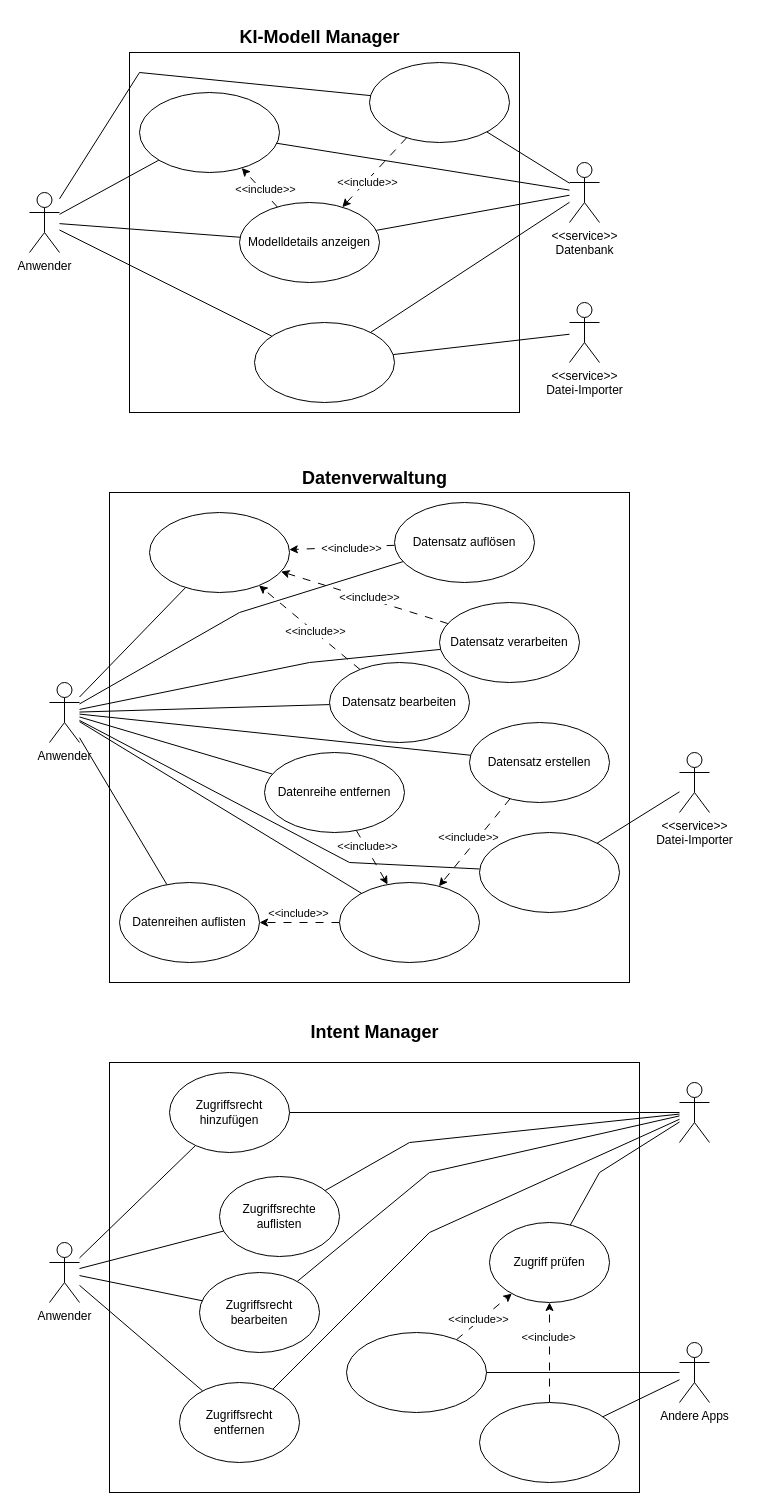
This 760x1510 diagram has some shape labels left out. The shapes that lost their labels are listed below. From the top down, each one's box as (x1, y1, x2, y2) in pixels, then its label:
(368, 62, 510, 142): Modell entfernen
(138, 92, 280, 172): Modelle auflisten
(254, 322, 394, 402): Modell hinzufügen
(148, 512, 290, 592): Datensätze auflisten
(478, 832, 620, 912): Datenreihe importieren
(338, 882, 480, 962): Datenreihe auswählen
(678, 1082, 710, 1142): <<service>> Zugriffsverwaltung
(346, 1332, 486, 1412): Datenreihe als Intent senden
(478, 1402, 620, 1482): Datenreihe als Intent empfangen
